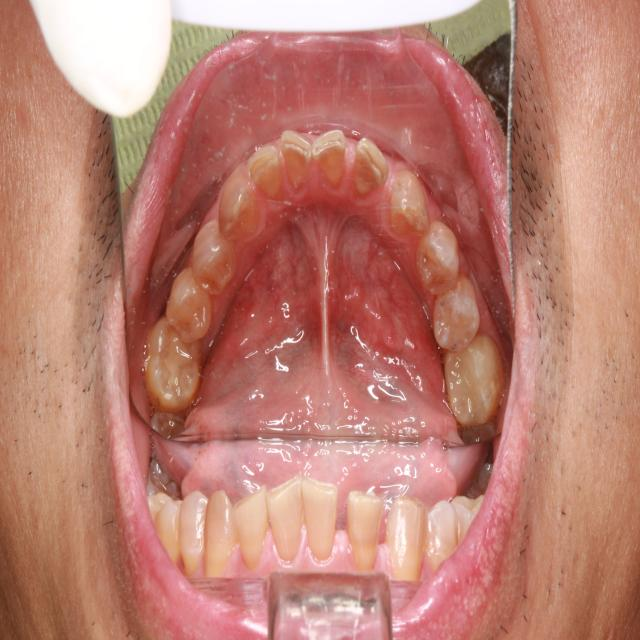tooth: (437, 325, 508, 432), (136, 312, 208, 416), (161, 264, 219, 347), (429, 267, 483, 356), (411, 214, 465, 301), (191, 215, 238, 299), (215, 168, 264, 243), (388, 164, 435, 242), (349, 127, 390, 201), (277, 123, 316, 198), (312, 120, 350, 194), (246, 142, 287, 201)
